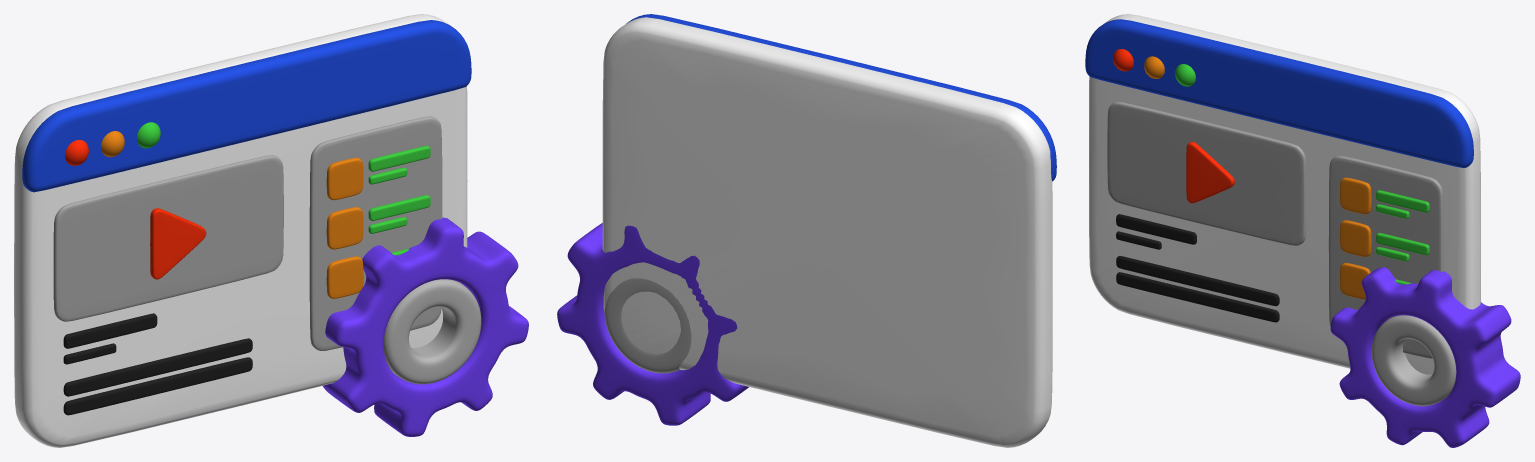
File: Content Management.glb
3 renders of one model, left to right at view 1: azimuth 30°, elevation 25°; view 2: azimuth 150°, elevation 25°; view 3: azimuth 330°, elevation 25°, orthographic. The views are drawn at different scales.
Visible parts, largest first — view 1: Plane.002, Plane, Plane.003, Gear, Plane.001, Sphere; view 2: Plane.002, Gear, Plane.003; view 3: Plane.002, Plane, Plane.003, Gear, Plane.001, Sphere.
Part boxes in pixels (x1,y1,x2,y2): Plane.002: (14, 14, 467, 447); Plane: (53, 116, 442, 415); Plane.003: (22, 20, 471, 192); Gear: (323, 217, 528, 436); Plane.001: (150, 145, 430, 298); Sphere: (65, 122, 160, 165); Plane.002: (602, 17, 1052, 447); Gear: (557, 223, 748, 425); Plane.003: (626, 14, 1056, 181); Plane.002: (1089, 14, 1480, 374); Plane: (1107, 101, 1443, 358); Plane.003: (1085, 19, 1473, 167); Gear: (1330, 267, 1520, 447); Plane.001: (1186, 141, 1429, 299); Sphere: (1113, 49, 1195, 86).
Bounding box in the file's own units: 6.46 × 5.04 × 0.7551.
